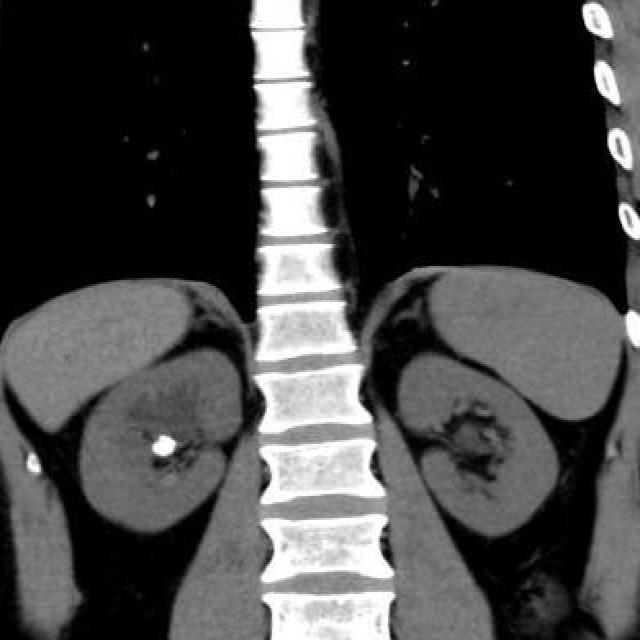Tas_Var: (146, 432, 185, 458)
